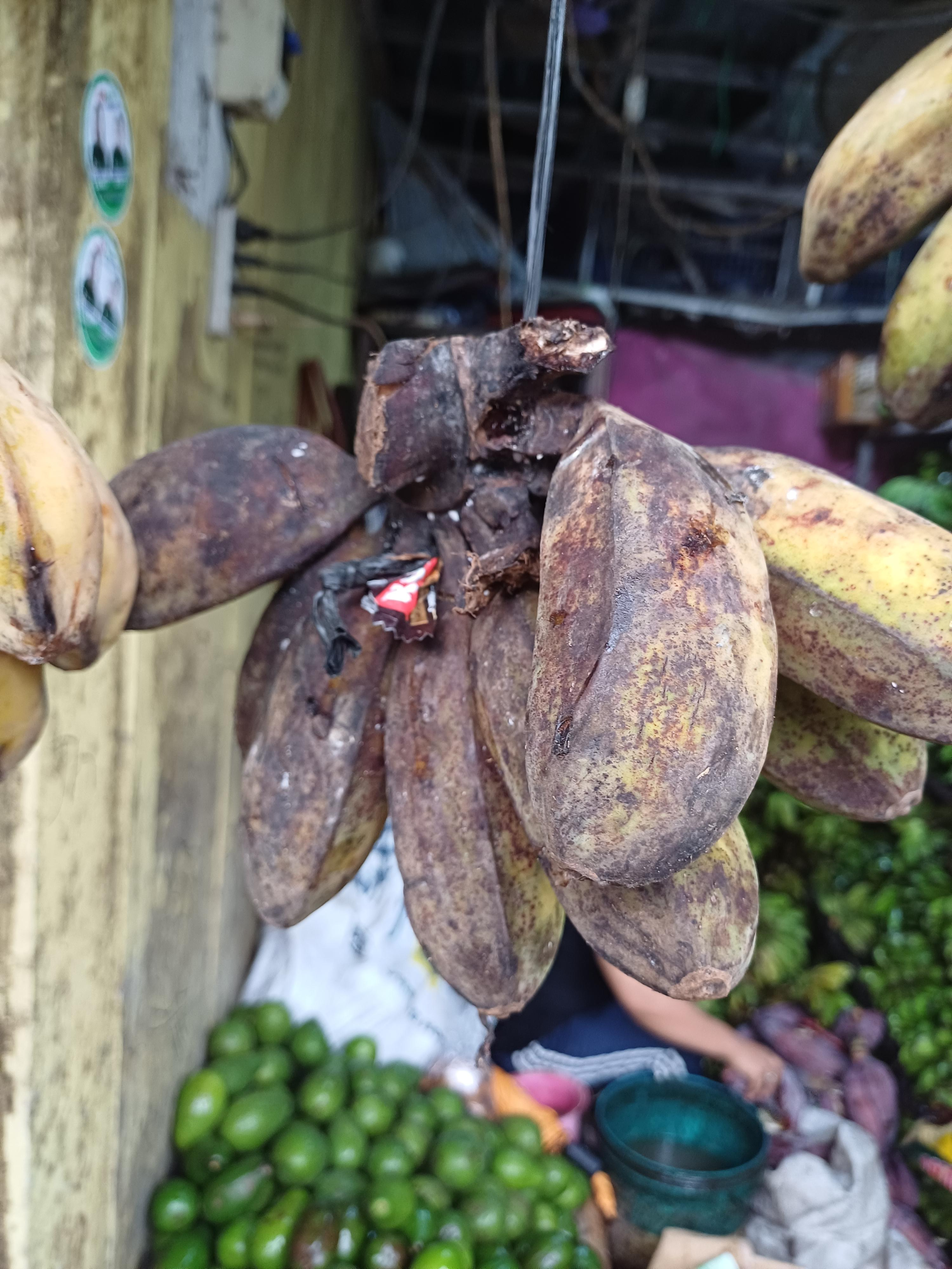overripe: (112, 404, 952, 1016)
